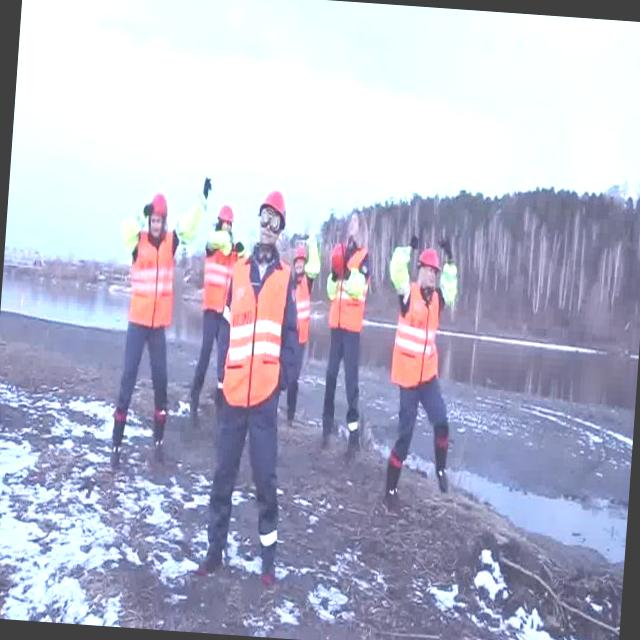boots: (250, 508, 294, 600), (424, 435, 465, 519), (378, 435, 414, 530), (96, 404, 135, 486), (192, 515, 230, 582), (140, 406, 172, 482), (342, 412, 364, 478), (314, 406, 337, 452)
gloves: (429, 224, 467, 265), (198, 173, 216, 210), (402, 227, 421, 255)
helmet: (256, 184, 290, 230), (144, 189, 172, 218), (328, 244, 349, 278), (417, 248, 440, 272), (216, 202, 237, 227), (293, 244, 308, 266)
vest: (222, 250, 290, 414), (390, 283, 444, 388), (128, 229, 180, 327), (330, 246, 370, 330), (203, 241, 231, 309), (386, 241, 416, 296), (175, 195, 206, 247), (288, 278, 310, 347), (116, 210, 144, 247), (304, 230, 323, 280), (436, 261, 456, 299), (205, 222, 232, 249), (345, 262, 367, 292), (326, 270, 338, 300)
